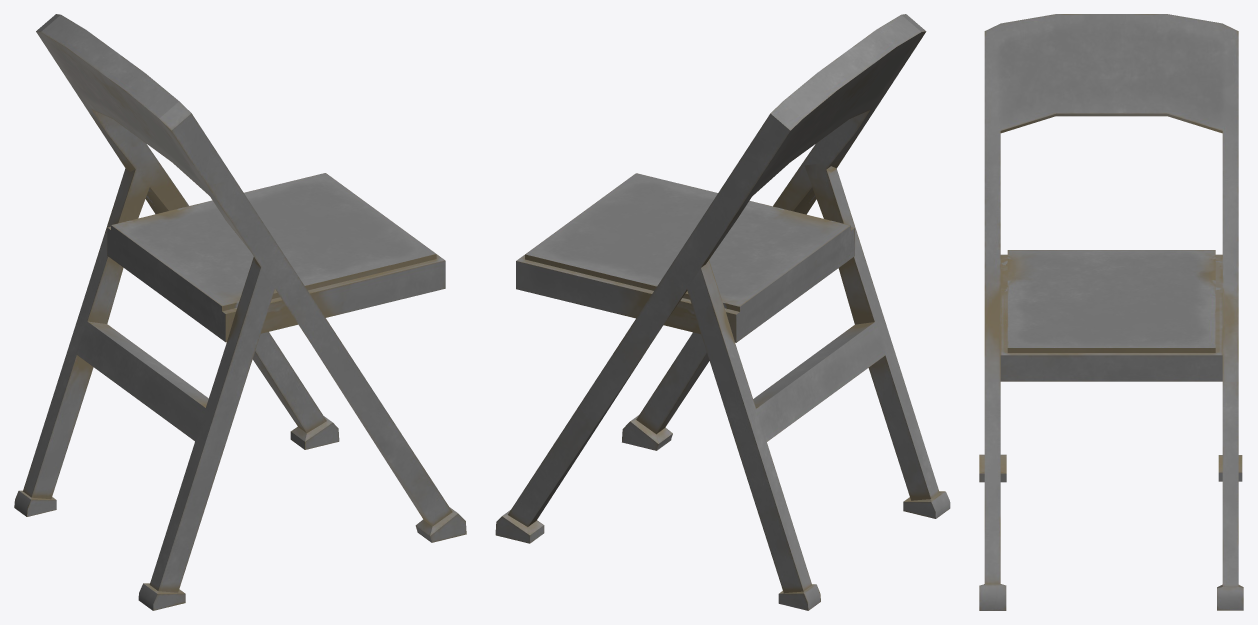
The model's file is Foldable_Chair.glb.
3 views of the same model, side by side, from view 1: azimuth 30°, elevation 25°; view 2: azimuth 150°, elevation 25°; view 3: azimuth 270°, elevation 25° (orthographic). The views are drawn at different scales.
Parts seen in each view (by area): view 1: FoldOutChair_Low; view 2: FoldOutChair_Low; view 3: FoldOutChair_Low.
Part boxes in pixels (x1=…): FoldOutChair_Low: x1=14, y1=14, x2=466, y2=610; FoldOutChair_Low: x1=495, y1=14, x2=950, y2=610; FoldOutChair_Low: x1=979, y1=14, x2=1243, y2=610.
Bounding box in the file's own units: 15.17 × 23.11 × 11.82.
1 material, 1 textured.
